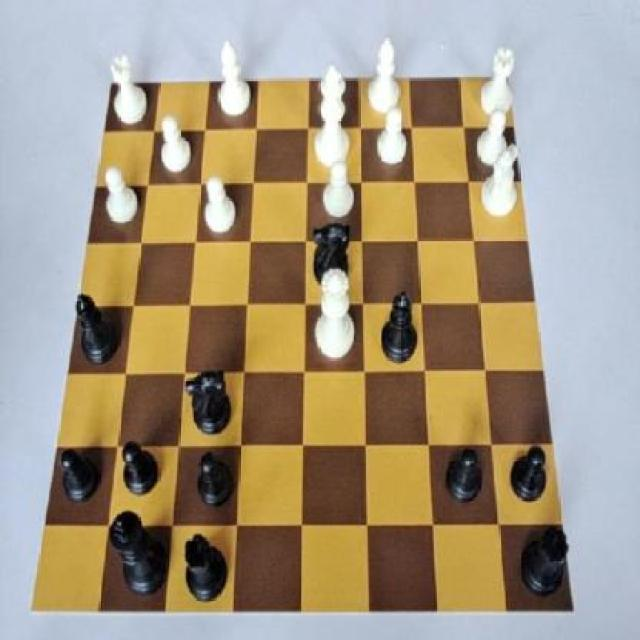bishop: (74, 291, 123, 373), (378, 289, 421, 367)
black-bishop: (104, 512, 170, 606)
black-king: (309, 222, 357, 302), (184, 363, 233, 441)
black-knight: (114, 436, 166, 506), (54, 443, 105, 511), (504, 440, 552, 510), (443, 443, 489, 515), (192, 451, 240, 512)
black-queen: (518, 526, 574, 603), (178, 530, 230, 608)
black-rook: (362, 26, 409, 126), (211, 34, 255, 122)
white-bishop: (310, 60, 356, 178)
white-king: (478, 137, 524, 221)
white-knight: (197, 172, 246, 241), (318, 154, 358, 229), (471, 106, 513, 170), (158, 111, 194, 183), (99, 166, 136, 234), (372, 108, 410, 172)
white-pawn: (308, 264, 362, 364)
white-queen: (472, 36, 522, 124), (106, 50, 150, 132)
